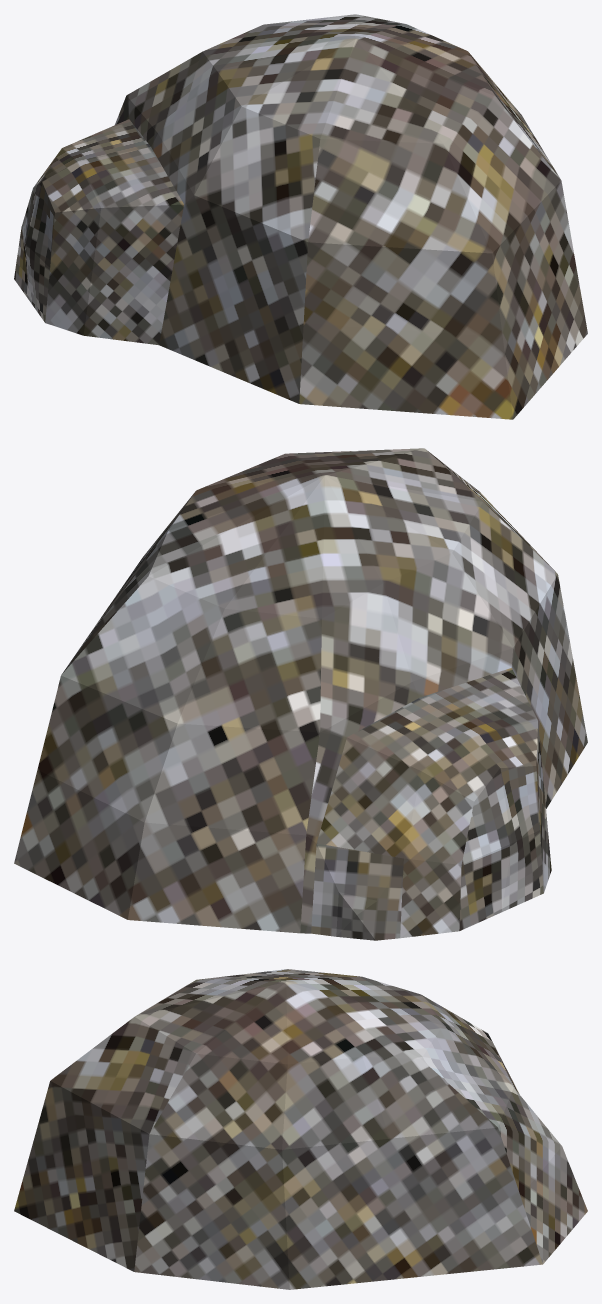
File: rock3.glb
The picture shows the model from 3 angles, top to bottom: view 1: azimuth 30°, elevation 25°; view 2: azimuth 150°, elevation 25°; view 3: azimuth 270°, elevation 25°; orthographic projection. The views are drawn at different scales.
Visible parts, largest first — view 1: rock3; view 2: rock3; view 3: rock3.
Part boxes in pixels (left/top/right/bottom): rock3: left=14, top=14, right=587, bottom=419; rock3: left=14, top=448, right=587, bottom=940; rock3: left=14, top=969, right=587, bottom=1289.
Bounding box in the file's own units: 4.1 × 2.37 × 5.38.
Materials: 1 (1 with a texture image).
